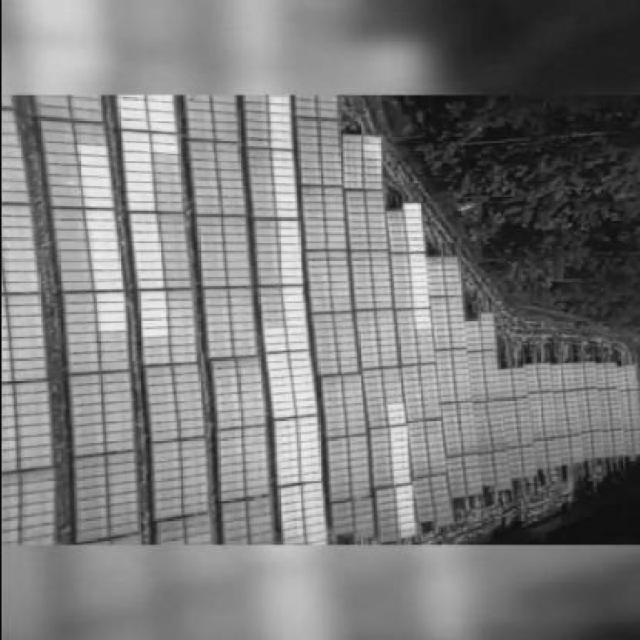diode: (76, 146, 110, 157), (119, 130, 147, 142), (85, 212, 116, 222), (74, 157, 108, 166), (135, 254, 159, 266), (148, 107, 174, 118), (120, 142, 148, 152), (125, 172, 152, 182), (94, 304, 121, 314), (124, 152, 150, 162), (149, 134, 177, 143), (150, 144, 178, 153), (135, 281, 163, 290), (87, 252, 118, 260), (94, 294, 121, 303), (94, 272, 118, 282), (120, 121, 146, 130), (136, 272, 159, 282), (126, 190, 151, 199), (129, 224, 154, 233), (133, 244, 158, 253), (140, 311, 165, 320), (145, 100, 173, 108), (82, 180, 110, 188), (278, 258, 300, 268), (152, 119, 176, 128), (129, 214, 153, 223), (141, 330, 165, 339), (84, 200, 111, 208), (269, 102, 293, 111), (297, 488, 321, 497), (277, 512, 298, 522), (117, 102, 143, 110), (120, 112, 145, 120), (82, 170, 107, 178), (89, 242, 114, 250), (273, 157, 295, 166), (286, 357, 308, 366), (288, 374, 310, 383), (293, 413, 315, 422), (273, 417, 295, 426), (86, 224, 114, 231), (124, 162, 148, 170), (139, 293, 163, 301), (84, 189, 108, 197), (92, 263, 116, 271), (95, 282, 119, 290), (125, 202, 152, 209), (132, 233, 153, 242), (139, 321, 166, 328), (281, 280, 302, 289), (126, 182, 149, 190), (96, 325, 122, 332), (140, 303, 162, 311), (98, 315, 120, 323), (272, 129, 294, 137), (278, 250, 300, 258), (262, 339, 284, 347), (272, 399, 294, 407), (278, 233, 297, 242), (273, 407, 292, 416), (302, 523, 321, 532), (278, 502, 297, 511), (294, 396, 311, 406), (292, 405, 313, 413), (361, 153, 379, 162), (301, 471, 319, 480), (277, 467, 295, 476), (302, 508, 320, 517), (281, 528, 299, 537), (136, 264, 159, 271), (276, 426, 292, 436), (289, 365, 311, 372), (267, 368, 284, 377), (304, 531, 321, 540), (276, 494, 293, 503), (394, 508, 411, 517), (392, 517, 411, 525), (89, 233, 114, 239), (271, 112, 292, 119), (281, 275, 299, 283), (297, 456, 315, 464), (302, 516, 320, 524), (385, 420, 403, 428), (396, 523, 412, 532), (279, 226, 296, 234), (276, 175, 295, 182), (282, 308, 304, 314), (263, 332, 285, 338), (296, 440, 318, 446), (295, 448, 317, 454), (273, 478, 295, 484), (278, 538, 300, 544), (362, 146, 378, 154), (403, 203, 419, 211), (273, 383, 289, 391), (292, 382, 308, 390), (278, 486, 294, 494), (393, 492, 409, 500), (268, 96, 289, 102), (271, 140, 292, 146), (271, 148, 292, 154), (277, 217, 298, 223), (281, 244, 299, 251), (281, 291, 299, 298), (297, 424, 315, 431), (274, 443, 295, 449), (295, 389, 310, 397), (403, 216, 422, 222), (272, 121, 291, 127), (276, 191, 295, 197), (265, 348, 284, 354), (272, 392, 291, 398), (298, 481, 317, 487), (299, 501, 318, 507), (278, 522, 297, 528), (388, 453, 407, 459), (388, 468, 407, 474), (389, 476, 408, 482), (410, 309, 424, 317), (388, 444, 404, 451), (391, 485, 407, 492), (275, 166, 293, 172), (278, 200, 296, 206), (280, 268, 298, 274), (282, 301, 300, 307), (288, 333, 306, 339), (288, 341, 306, 347), (267, 360, 285, 366), (298, 433, 316, 439), (275, 460, 293, 466), (387, 460, 408, 465), (394, 502, 409, 509), (408, 254, 423, 261), (406, 238, 423, 244), (407, 244, 424, 250), (279, 210, 296, 216), (290, 348, 307, 354), (118, 94, 142, 98), (408, 281, 424, 287), (285, 324, 301, 330), (269, 376, 285, 382), (386, 414, 402, 420), (388, 430, 404, 436), (388, 437, 404, 443), (407, 247, 422, 253), (277, 436, 292, 442), (275, 451, 290, 457), (300, 464, 315, 470), (303, 542, 325, 546), (147, 96, 176, 99), (412, 288, 426, 294), (412, 302, 426, 308), (403, 211, 417, 217), (285, 316, 301, 321), (275, 185, 294, 189), (410, 267, 422, 273), (414, 294, 426, 300), (413, 317, 425, 323), (387, 404, 399, 410), (411, 275, 424, 280), (409, 261, 423, 265), (149, 130, 176, 132), (406, 225, 419, 229), (408, 232, 420, 235)
hotspot: (374, 142, 380, 148)
